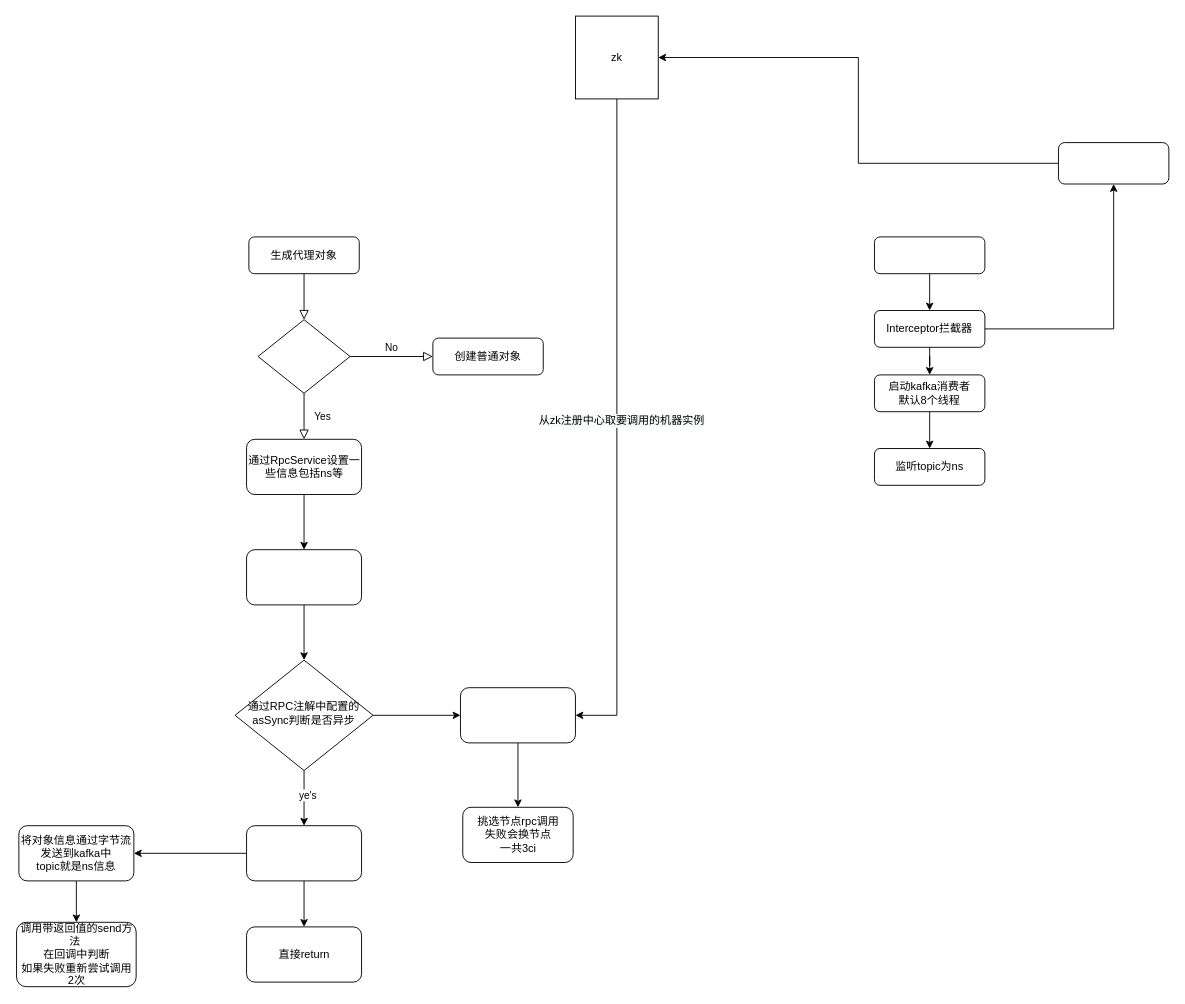
The diagram is 1185 pixels wide and 1004 high, and some of its shapes have lost their labels. Each missing label, with the centre of its shape:
jdk动态代理生成代理对象: the point at 304,577
matrix配置注册到zk: the point at 1113,163
Thrift Rpc调用: the point at 517,715
启动一个线程: the point at 304,853
是否有RPC注解?: the point at 303,356
服务端 启动: the point at 929,255
